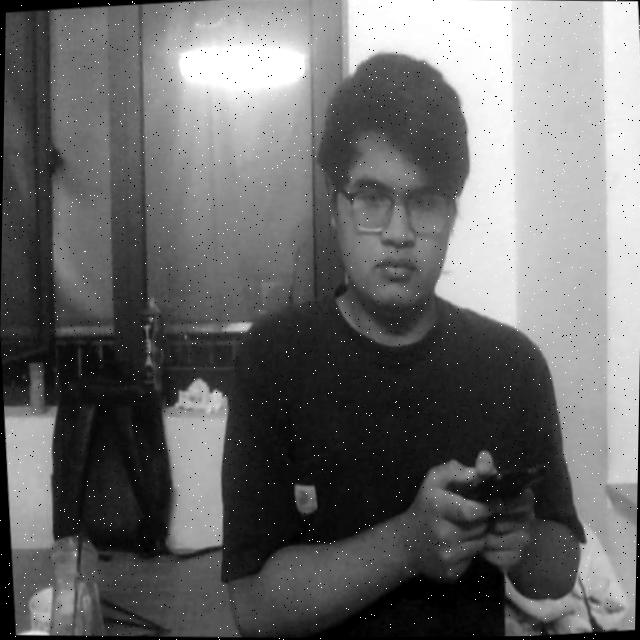phone: (436, 438, 550, 532)
